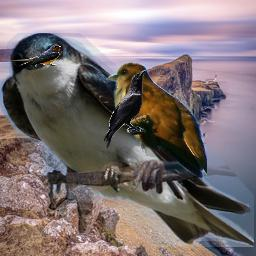Crow: (103, 69, 146, 148)
Cuckoo: (106, 62, 207, 181)
Swallow: (0, 33, 254, 247), (8, 44, 61, 66)
